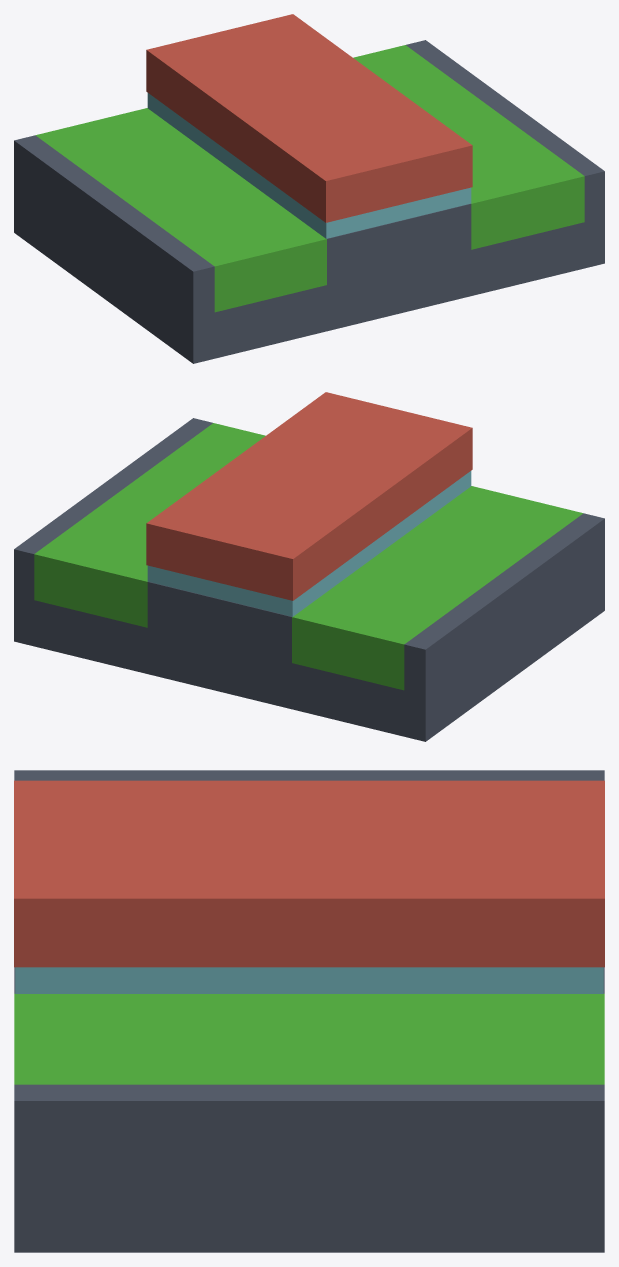
File: diendungcuccong.fbx
3 views of the same model, one above another, from view 1: azimuth 30°, elevation 25°; view 2: azimuth 150°, elevation 25°; view 3: azimuth 270°, elevation 25° (orthographic). The views are drawn at different scales.
Visible parts, largest first — view 1: pCube1, pCube3, pCube2; view 2: pCube1, pCube3, pCube2; view 3: pCube1, pCube3, pCube2.
Boxes of the visible parts, x1=… form: pCube1: x1=14, y1=40, x2=604, y2=363; pCube3: x1=146, y1=14, x2=472, y2=222; pCube2: x1=147, y1=93, x2=471, y2=238; pCube1: x1=14, y1=418, x2=604, y2=741; pCube3: x1=146, y1=392, x2=472, y2=600; pCube2: x1=147, y1=471, x2=471, y2=616; pCube1: x1=14, y1=770, x2=604, y2=1252; pCube3: x1=14, y1=780, x2=604, y2=967; pCube2: x1=15, y1=967, x2=603, y2=993.
Size of the model in its own units: 35.68 by 12.47 by 26.94.
